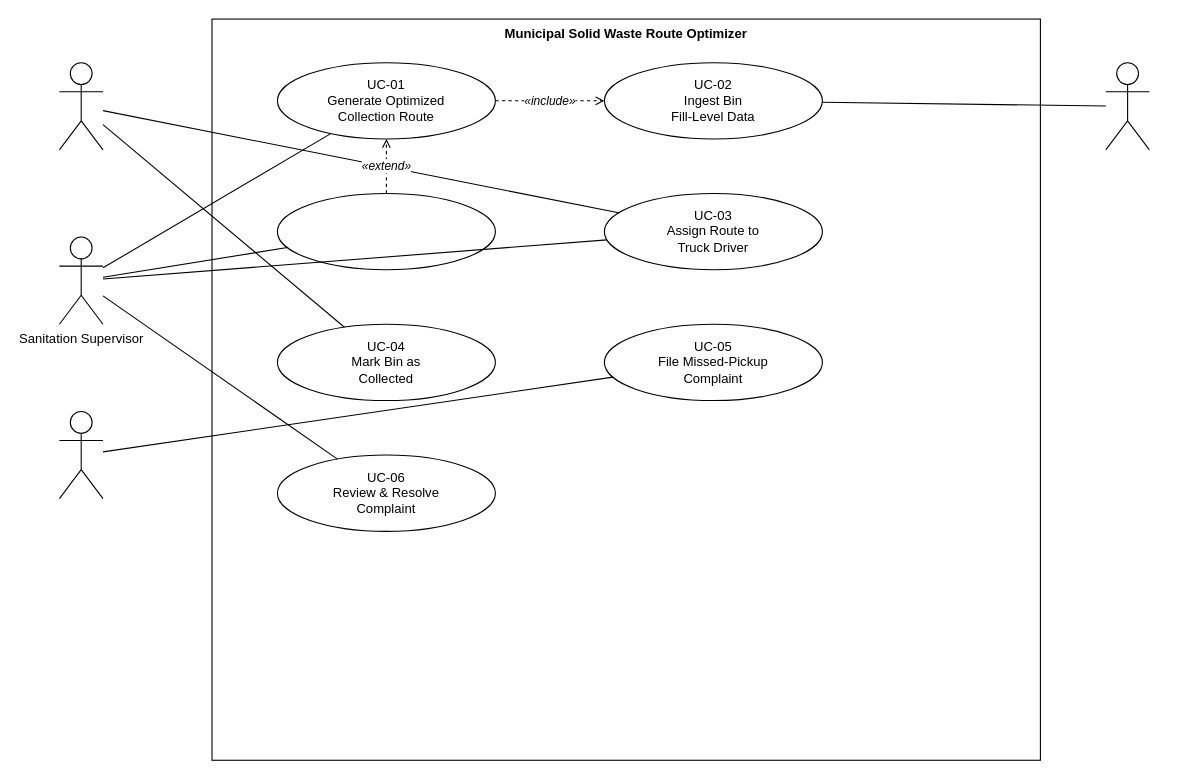
Image size: 1197x779. Some labels were removed from this diagram. The centre of each missing label's shape, as x and y in pixels:
"Citizen" goes at point (80, 454).
"Smart Bin Sensor (Device/System)" goes at point (1127, 106).
"Truck Driver" goes at point (80, 106).
"UC-07 Manually Tag Bin for Collection" goes at point (385, 231).
